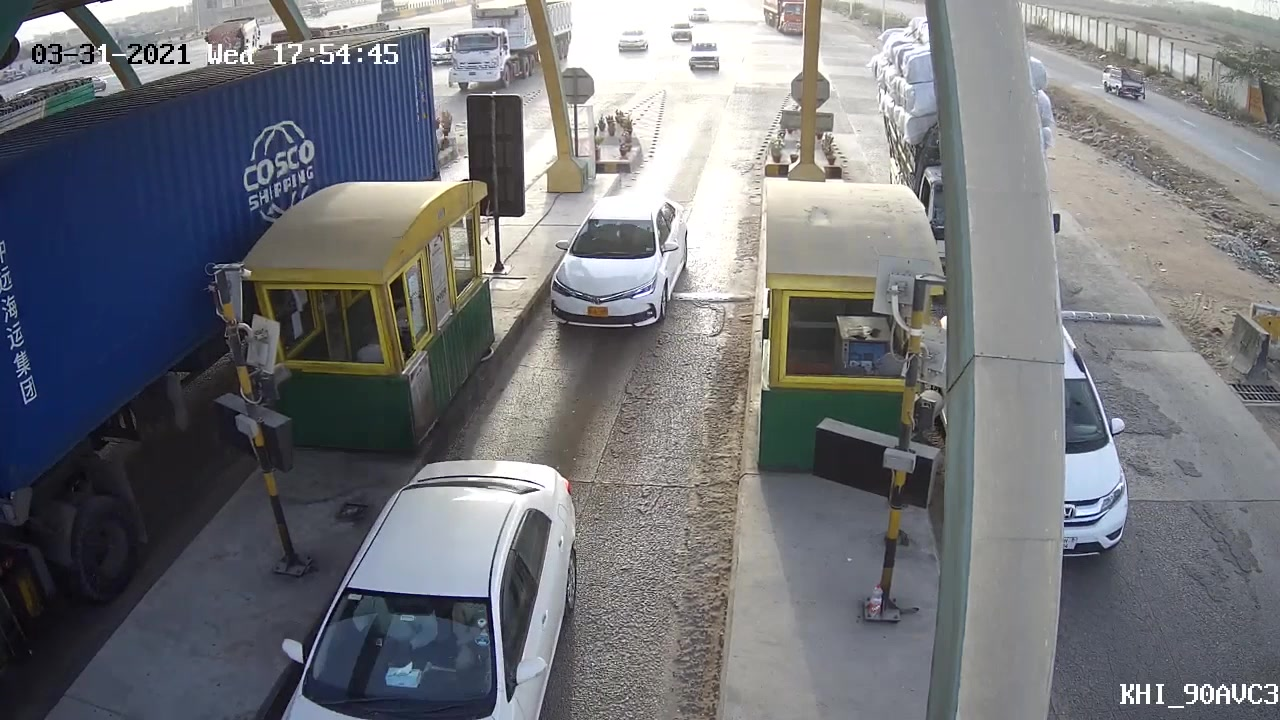F1: (542, 189, 696, 334)
